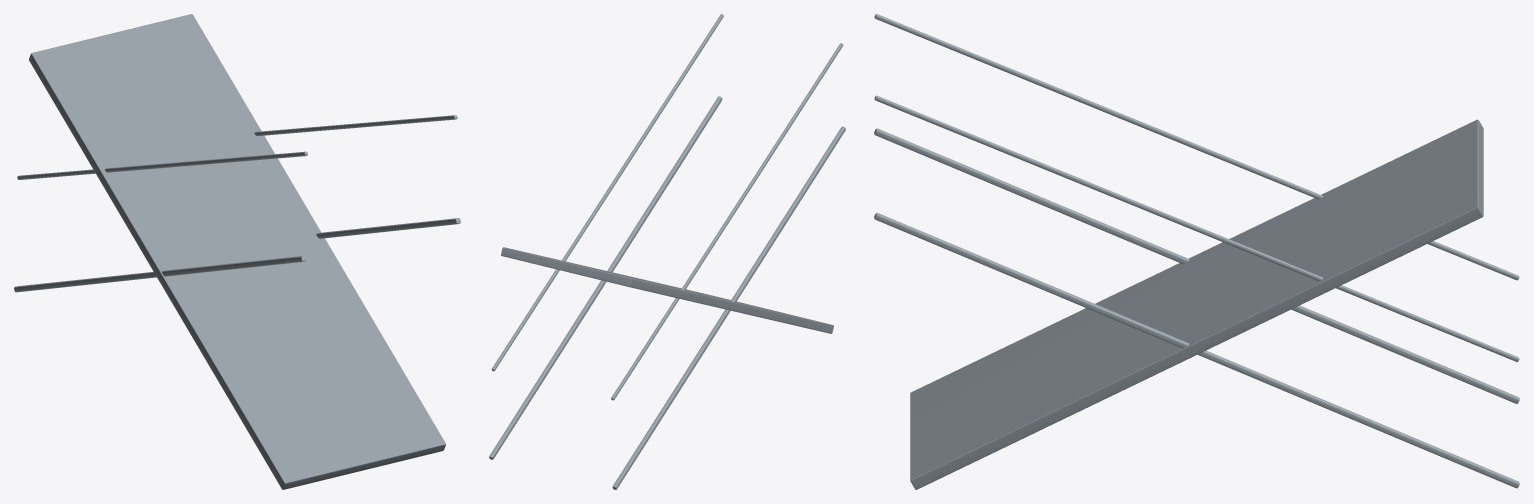
The model's file is gangway.glb.
3 views of the same model, side by side, from view 1: azimuth 30°, elevation 25°; view 2: azimuth 150°, elevation 25°; view 3: azimuth 270°, elevation 25° (orthographic). The views are drawn at different scales.
Visible parts, largest first — view 1: gangway; view 2: gangway; view 3: gangway.
Part boxes in pixels (x1=…): gangway: x1=14, y1=14, x2=460, y2=489; gangway: x1=489, y1=14, x2=845, y2=489; gangway: x1=874, y1=14, x2=1519, y2=489.
Size of the model in its own units: 1.3 by 2.68 by 4.01.
